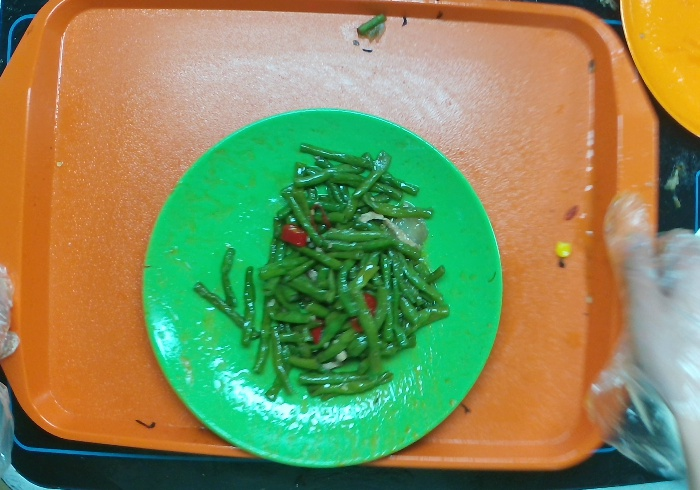HZYJPL-Lv_Se_Yuan_Pan: (138, 107, 505, 470)
